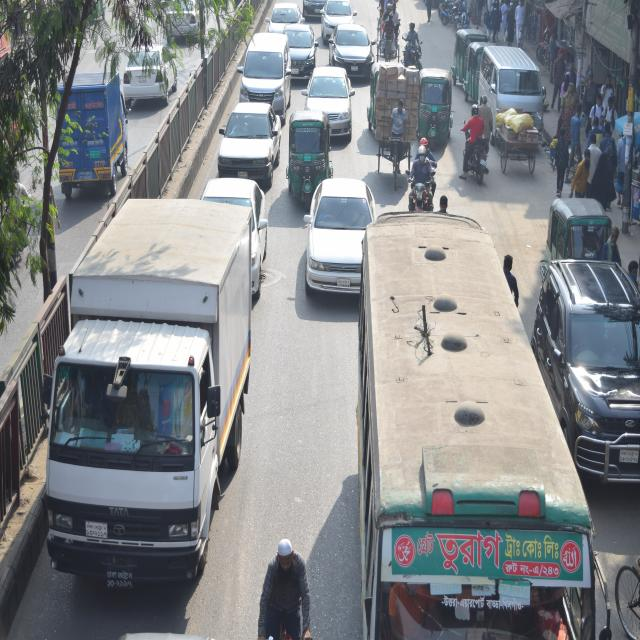bus: (346, 214, 597, 640)
car: (537, 251, 640, 495), (302, 170, 374, 299), (215, 90, 278, 179), (126, 23, 179, 107), (308, 59, 352, 138), (201, 170, 267, 219), (328, 20, 372, 75), (283, 16, 317, 77), (268, 0, 299, 35), (321, 0, 354, 27)
microbus: (473, 43, 548, 144), (238, 26, 290, 100)
motorbike: (402, 144, 432, 216), (395, 21, 422, 75)
pickup-van: (37, 192, 261, 595), (57, 62, 125, 206)
